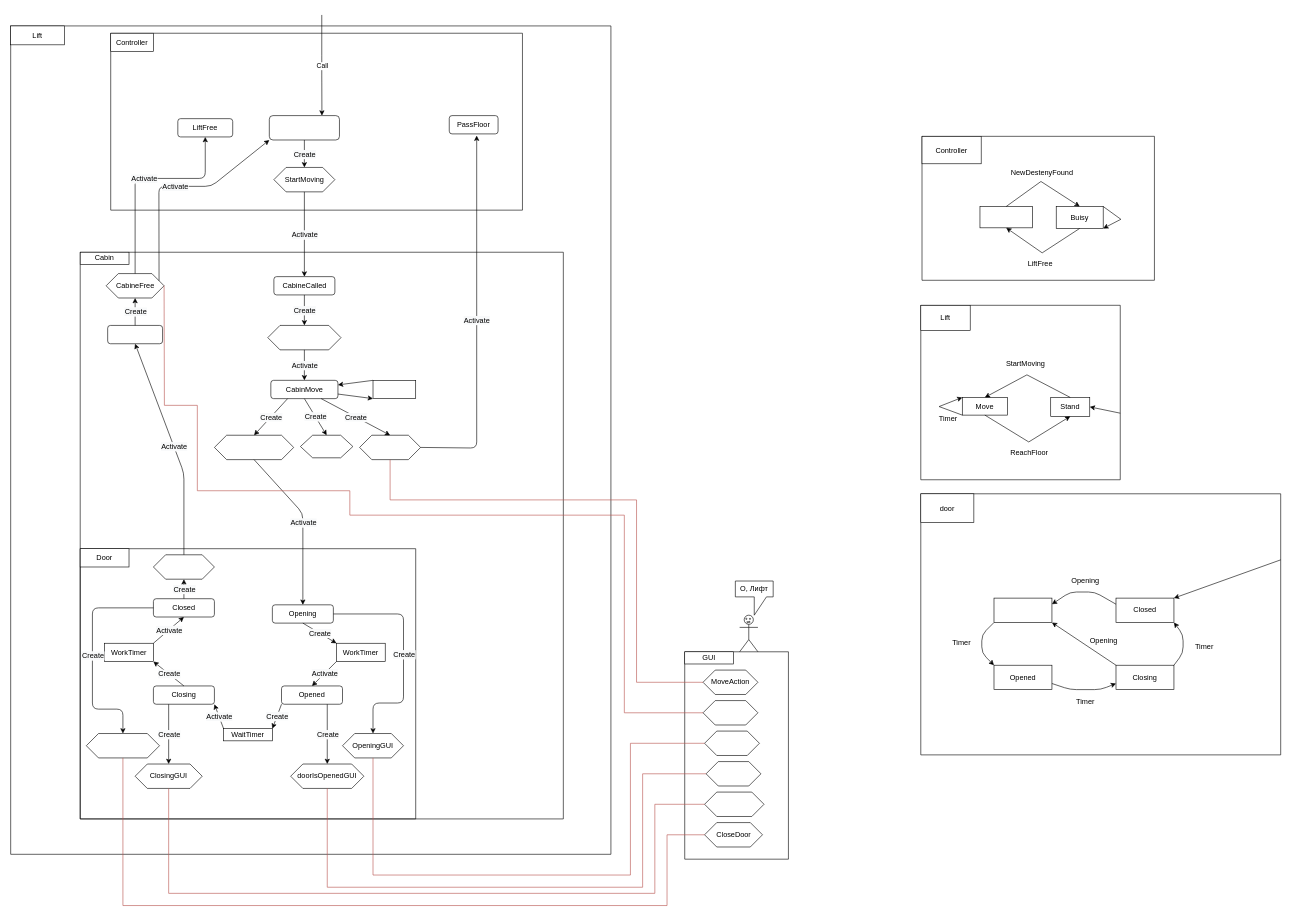
Image size: 1296x917. Some labels were removed from this diagram. The shapes that lost their labels are listed below. From the top down, each one's centre as x and y in pixels, then its label:
At point 304,127: "FindNewDestination".
At point 1005,217: "Free".
At point 135,334: "CabineStand".
At point 304,337: "CabineStartMoving".
At point 394,389: "MoveTimer".
At point 254,447: "CabineReachFloor".
At point 326,446: "onFloorGUI".
At point 390,447: "CabinePassFloor".
At point 183,566: "DoorClosed".
At point 1022,610: "Openeing".
At point 748,633: "Actor".
At point 730,712: "StopAction".
At point 123,745: "doorIsClosedGUI".
At point 731,742: "OpeningDoor".
At point 733,773: "OpenDoor".
At point 734,803: "ClosingDoor".
